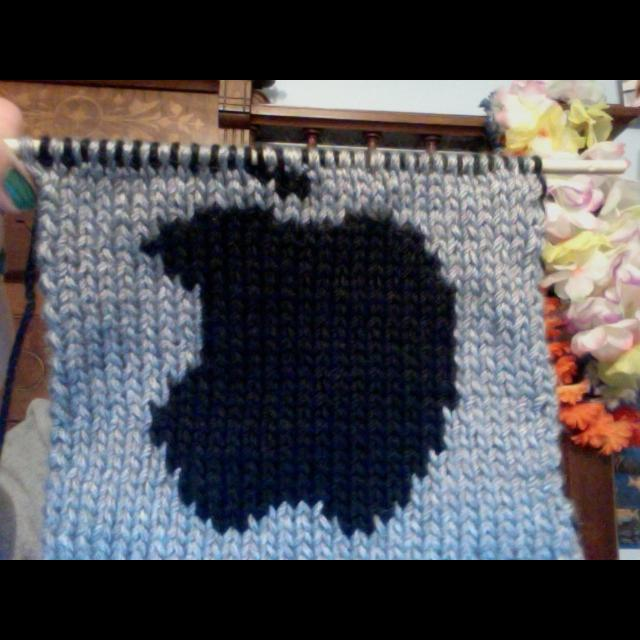Flower: (506, 96, 640, 380), (551, 234, 611, 302)
